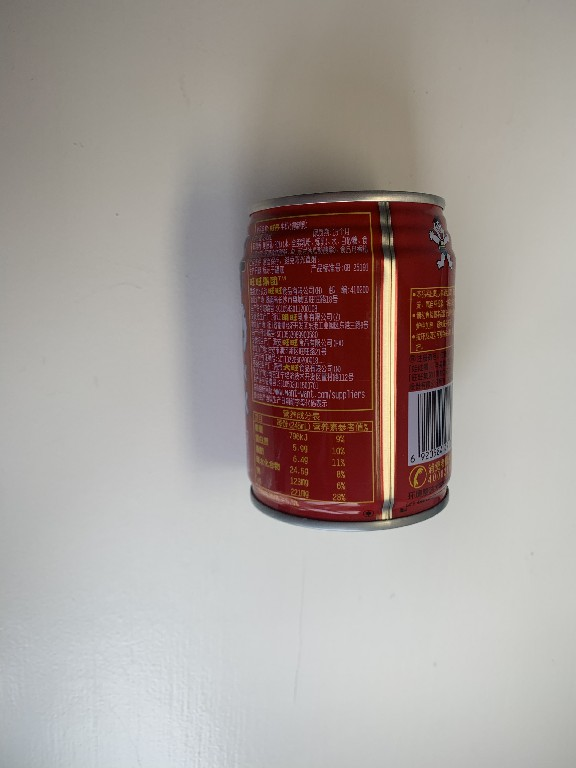can: (236, 187, 463, 539)
